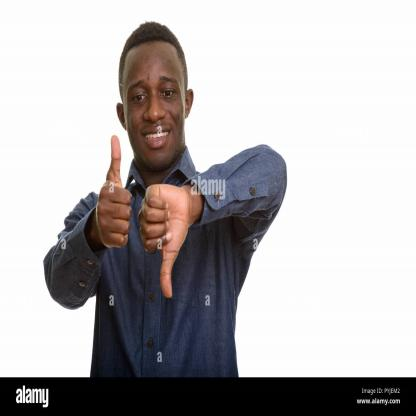Thumbs-Down: (138, 178, 205, 303)
Thumbs-Up: (74, 122, 137, 256)
